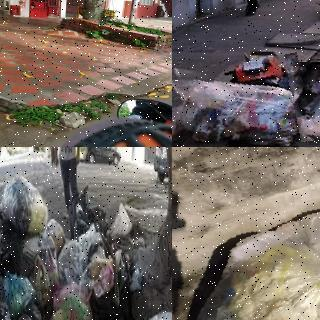Garbage: (172, 187, 320, 320), (172, 58, 309, 147), (1, 174, 45, 234), (290, 57, 320, 137), (0, 274, 37, 319)
